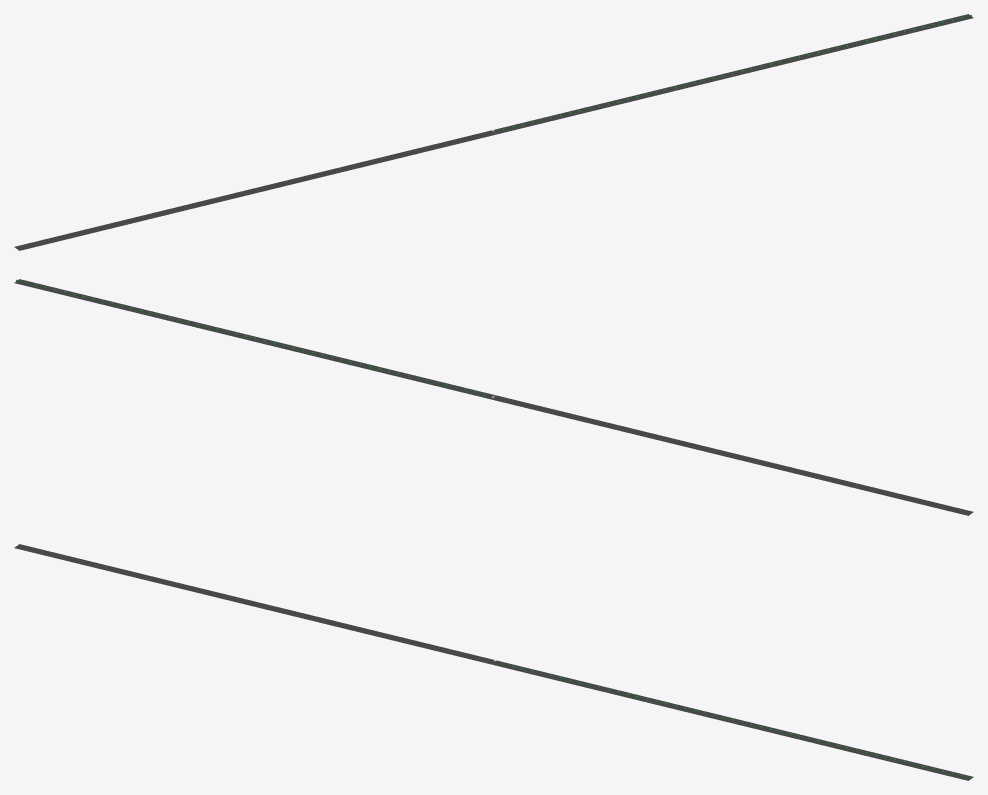
3 renders of one model, top to bottom at view 1: azimuth 30°, elevation 25°; view 2: azimuth 150°, elevation 25°; view 3: azimuth 330°, elevation 25°, orthographic.
Parts seen in each view (by area): view 1: 平面; view 2: 平面; view 3: 平面.
Part boxes in pixels (x1,y1,x2,y2): 平面: (14,14,973,250); 平面: (14,279,973,515); 平面: (14,544,973,780).
Size of the model in its own units: 1000 by 2 by 10.
Materials: 4 (1 with a texture image).
